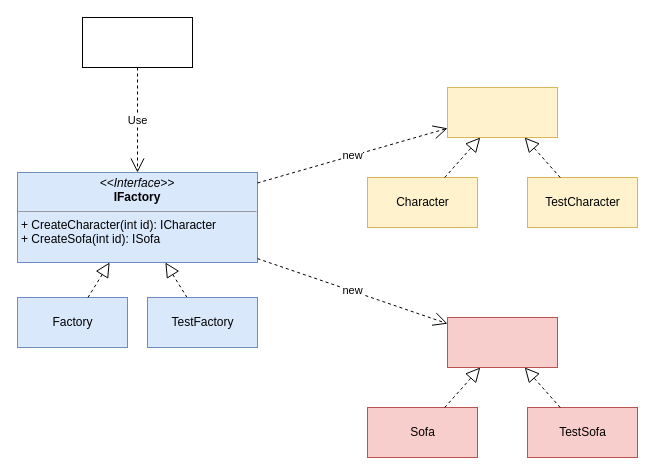
The diagram is 655 pixels wide and 475 high, and some of its shapes have lost their labels. The box of each missing label's shape, as (x1, y1, x2, y2) in pixels:
Garden: (82, 16, 192, 68)
«interface» ICharacter: (446, 86, 558, 138)
«interface» ISofa: (446, 316, 558, 368)
